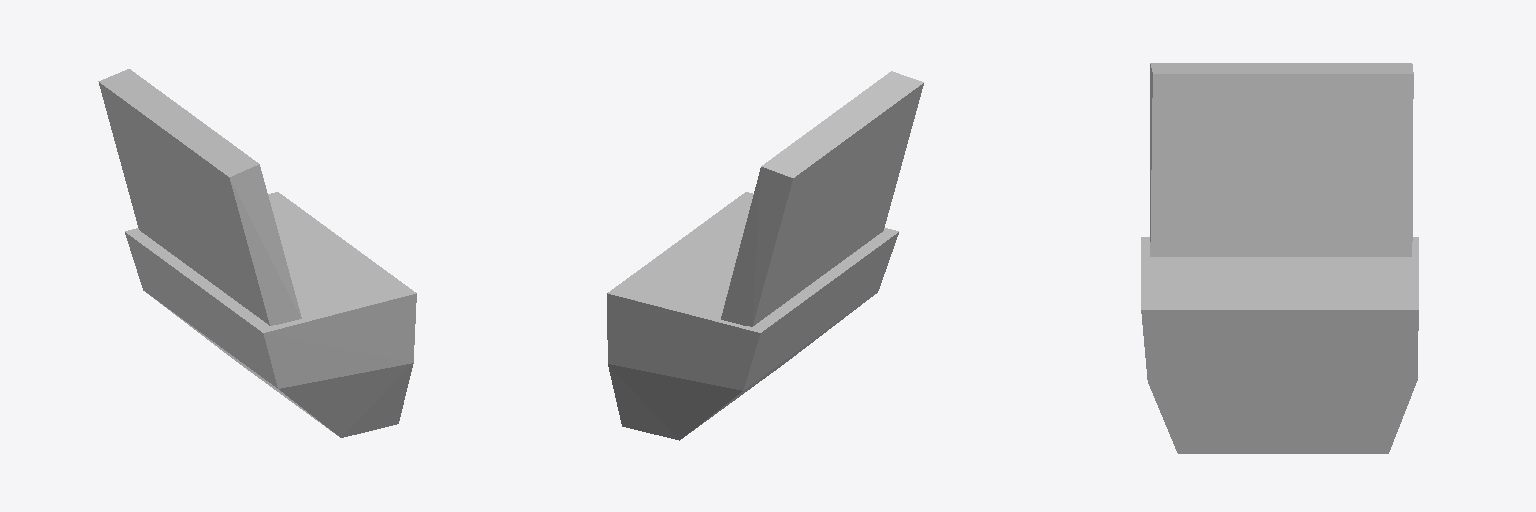
The model's file is head_light_collision.obj.
The picture shows the model from 3 angles: view 1: azimuth 30°, elevation 25°; view 2: azimuth 150°, elevation 25°; view 3: azimuth 270°, elevation 25°; orthographic projection.
Bounding box in the file's own units: 0.162 × 0.259 × 0.213.